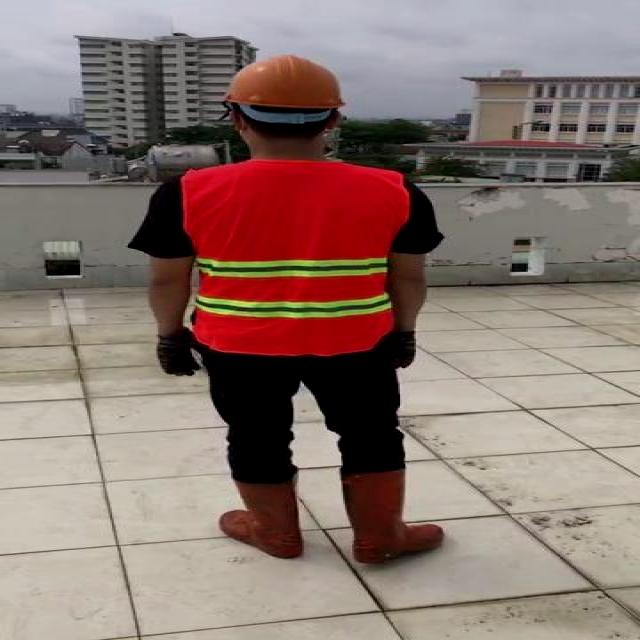boots: (336, 469, 446, 563), (217, 477, 306, 560)
hand_glove: (156, 334, 202, 377), (386, 330, 420, 371)
head_helmet: (222, 54, 350, 114)
person: (134, 51, 468, 572)
vest: (183, 162, 404, 351)
